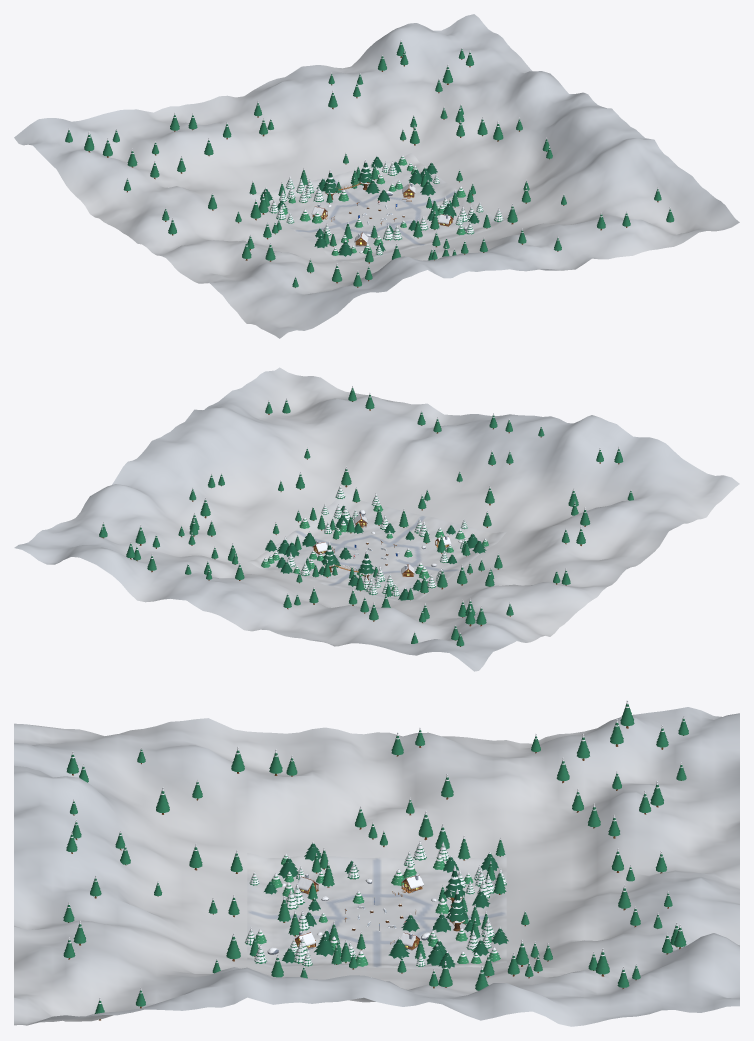
File: forest_village.glb
3 views of the same model, one above another, from view 1: azimuth 30°, elevation 25°; view 2: azimuth 150°, elevation 25°; view 3: azimuth 270°, elevation 25° (orthographic). The views are drawn at different scales.
Parts seen in each view (by area): view 1: backdrop_hills, terrain; view 2: backdrop_hills, terrain; view 3: backdrop_hills, terrain.
Boxes of the visible parts, box(x1,y1,x2,y2) form: backdrop_hills: box(14, 14, 739, 338); terrain: box(247, 153, 506, 262); backdrop_hills: box(14, 367, 739, 671); terrain: box(247, 492, 506, 601); backdrop_hills: box(14, 707, 739, 1026); terrain: box(247, 852, 506, 968).
Size of the model in its own units: 280 by 38.23 by 280.
